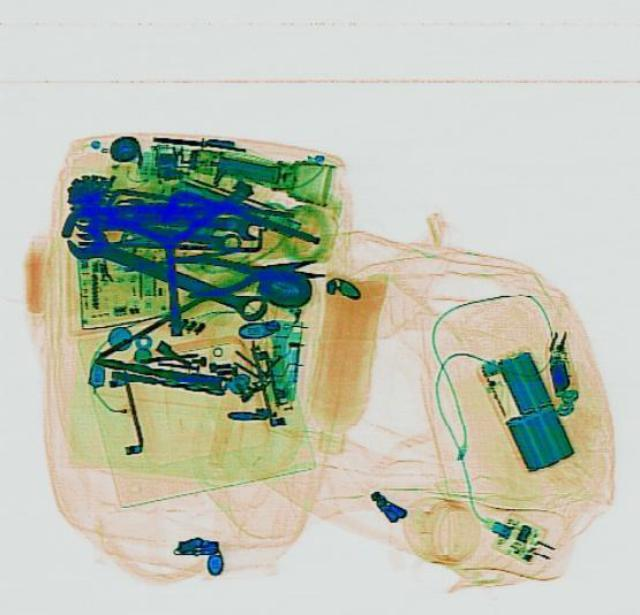Pliers: (121, 233, 327, 322)
Wrench: (60, 218, 274, 327), (111, 188, 263, 242)
